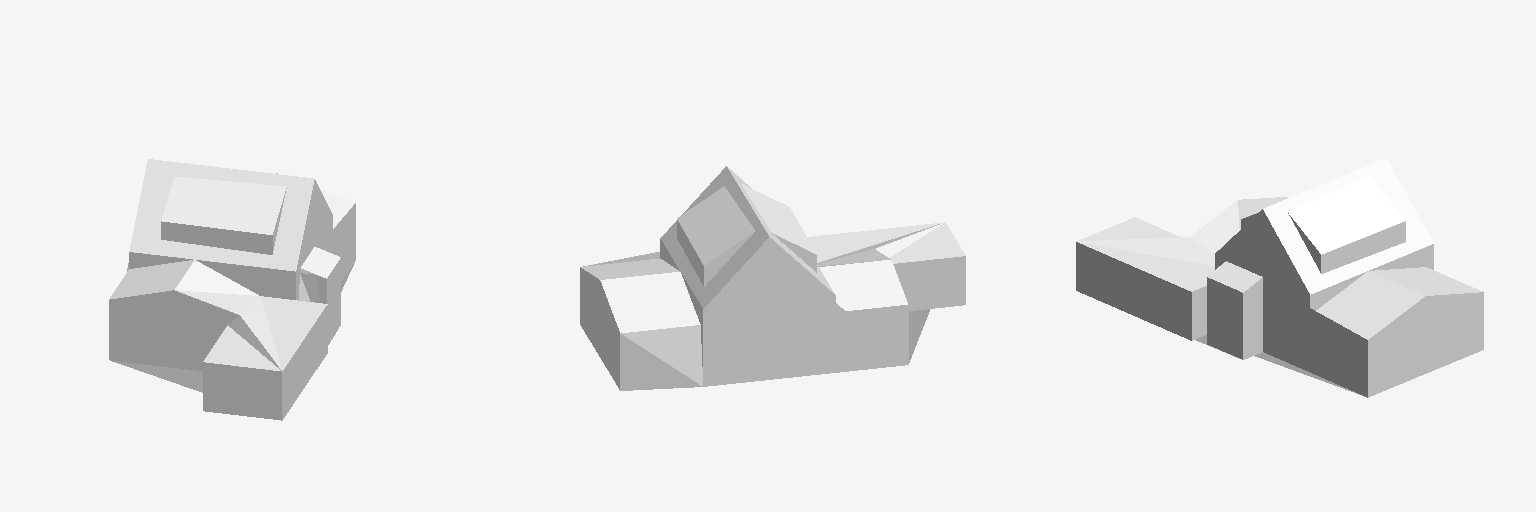
The model's file is house_Shape 324.obj.
The picture shows the model from 3 angles: view 1: azimuth 30°, elevation 25°; view 2: azimuth 150°, elevation 25°; view 3: azimuth 270°, elevation 25°; orthographic projection.
Parts seen in each view (by area): view 1: CityEngineMaterial_4, CityEngineMaterial_48, CityEngineMaterial_47, CityEngineMaterial_217, CityEngineMaterial_104; view 2: CityEngineMaterial_4, CityEngineMaterial_47, CityEngineMaterial_48, CityEngineMaterial_217, CityEngineMaterial_104; view 3: CityEngineMaterial_4, CityEngineMaterial_47, CityEngineMaterial_48, CityEngineMaterial_217.
Boxes of the visible parts, x1=… form: CityEngineMaterial_4: x1=109, y1=159, x2=355, y2=371; CityEngineMaterial_48: x1=109, y1=193, x2=340, y2=420; CityEngineMaterial_47: x1=127, y1=203, x2=355, y2=420; CityEngineMaterial_217: x1=148, y1=180, x2=332, y2=300; CityEngineMaterial_104: x1=110, y1=262, x2=354, y2=392; CityEngineMaterial_4: x1=581, y1=166, x2=965, y2=332; CityEngineMaterial_47: x1=580, y1=252, x2=908, y2=389; CityEngineMaterial_48: x1=620, y1=220, x2=965, y2=390; CityEngineMaterial_217: x1=594, y1=233, x2=835, y2=316; CityEngineMaterial_104: x1=909, y1=309, x2=929, y2=362; CityEngineMaterial_4: x1=1076, y1=158, x2=1482, y2=339; CityEngineMaterial_47: x1=1076, y1=242, x2=1483, y2=397; CityEngineMaterial_48: x1=1192, y1=213, x2=1433, y2=359; CityEngineMaterial_217: x1=1215, y1=209, x2=1444, y2=311.
Bounding box in the file's own units: 19.27 × 9.16 × 23.66.